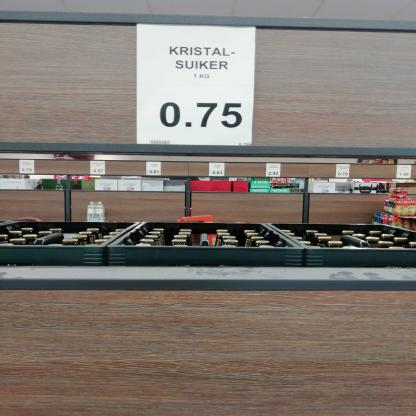prtg: (136, 24, 259, 146), (210, 164, 227, 178), (20, 161, 36, 175), (266, 164, 282, 178), (397, 166, 413, 180), (147, 163, 162, 177), (91, 162, 106, 176), (336, 165, 351, 179)
